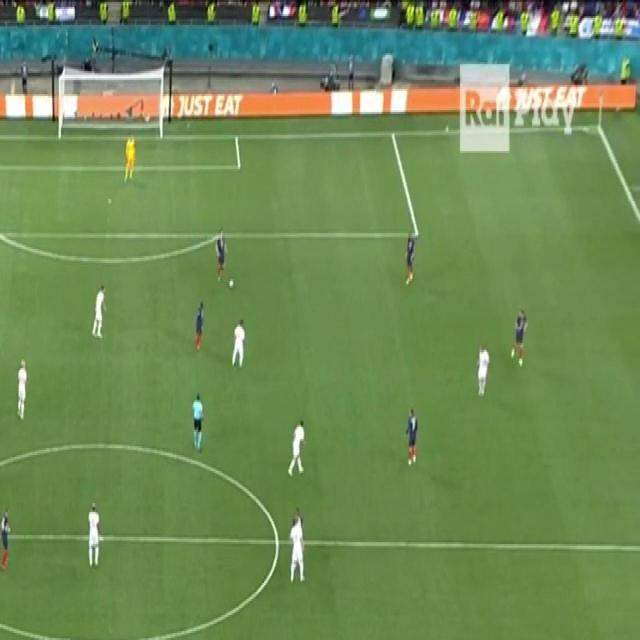ball: (226, 276, 236, 292)
player-white: (287, 510, 307, 588), (286, 416, 308, 480), (85, 498, 103, 574), (509, 305, 528, 372), (229, 315, 251, 370), (90, 280, 108, 343), (188, 389, 205, 455), (403, 406, 420, 470), (15, 355, 30, 427), (475, 340, 491, 400), (404, 224, 418, 290), (214, 224, 228, 284), (192, 296, 206, 355), (0, 505, 12, 573), (123, 131, 138, 181)
